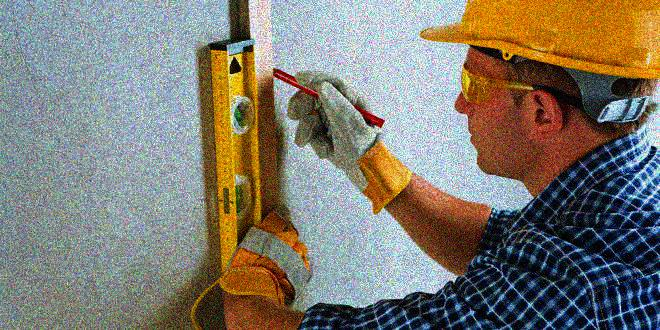helmet: (416, 1, 660, 184)
